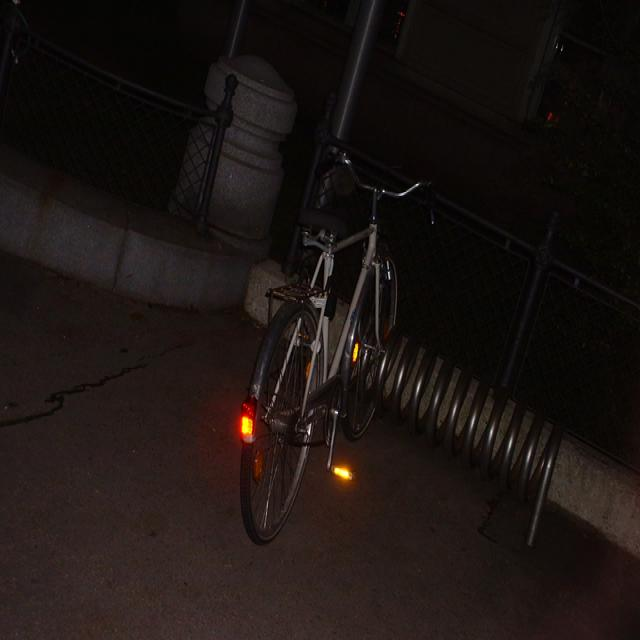Bicycle: (265, 106, 436, 573)
